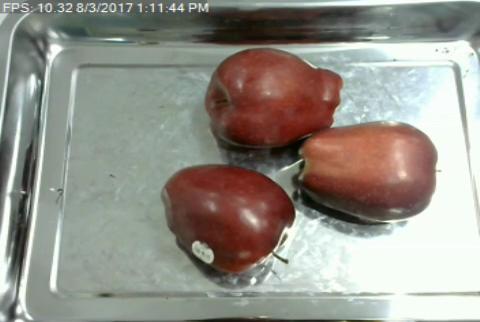Apple: (157, 159, 300, 279), (291, 120, 450, 221), (199, 44, 348, 150)
